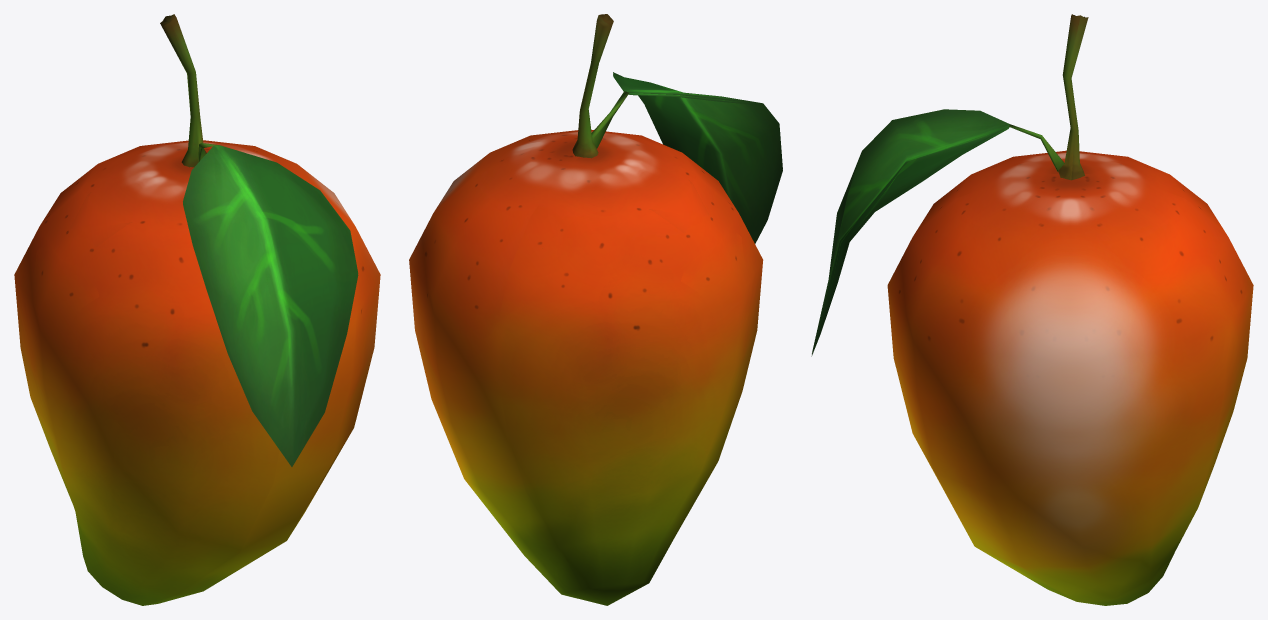
Rendered from mango.fbx.
3 views of the same model, side by side, from view 1: azimuth 30°, elevation 25°; view 2: azimuth 150°, elevation 25°; view 3: azimuth 270°, elevation 25° (orthographic). The views are drawn at different scales.
Parts seen in each view (by area): view 1: mango; view 2: mango; view 3: mango.
Part boxes in pixels (x1,y1,x2,y2): mango: (14,14,380,605); mango: (409,14,782,605); mango: (811,14,1253,605).
Bounding box in the file's own units: 1.89 × 3.35 × 2.28.
